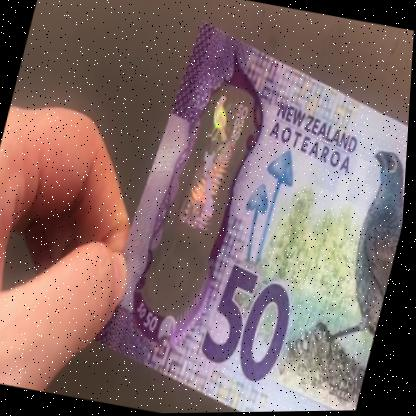50B: (146, 87, 254, 306)
